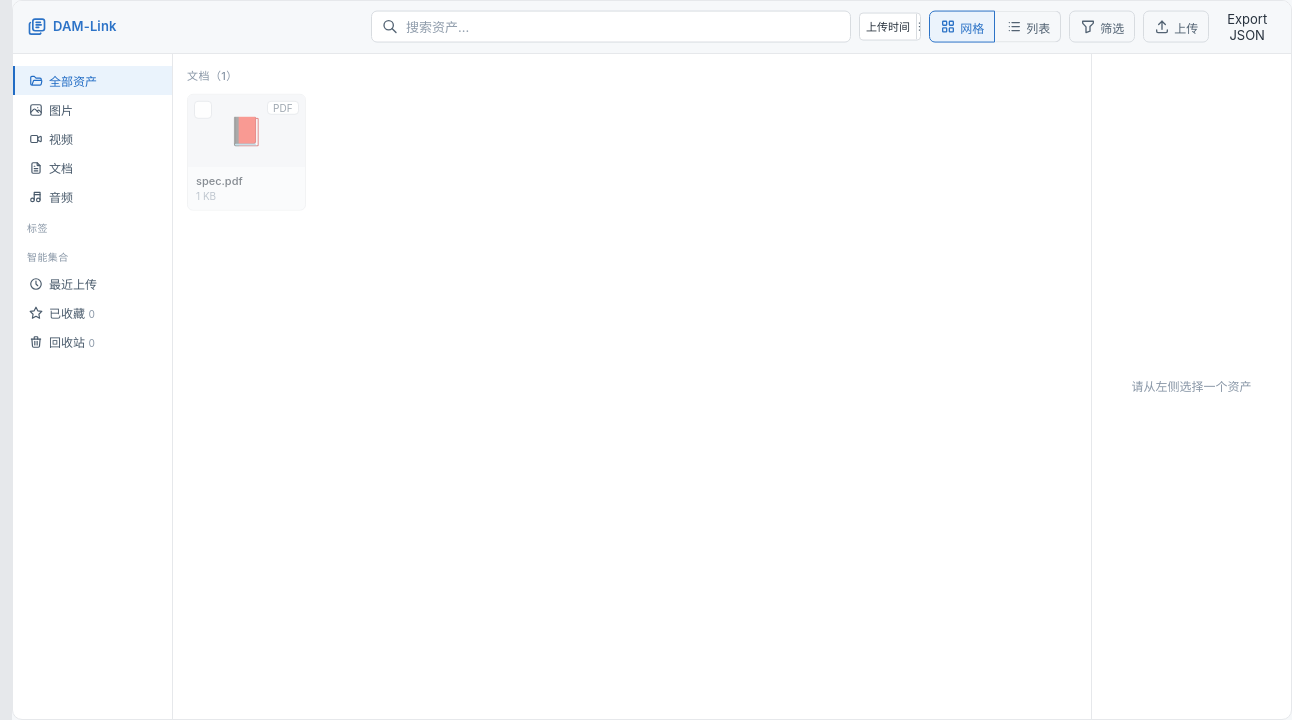
it: App — BatchActionBar handlers › clicking a document card opens the DetailPanel without opening the Lightbox
The width and height of the screenshot is (1292, 720).
Check: the text "spec.pdf" is shown, box [196,173,243,187]
# Click the document card.
Click the button "📕 PDF spec.pdf 1 KB" at (246, 152), box [187,93,306,211]
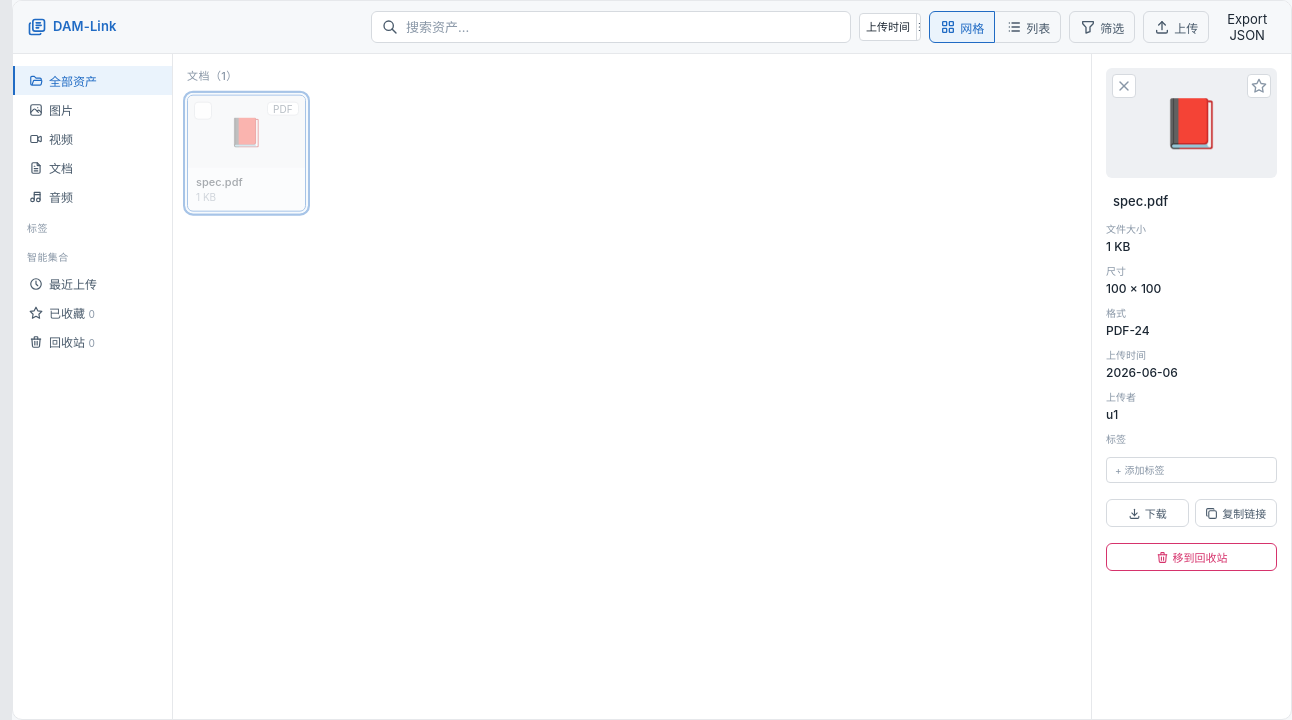
Check: the button titled "点击重命名" reads "spec.pdf", box [1106,190,1277,212]
